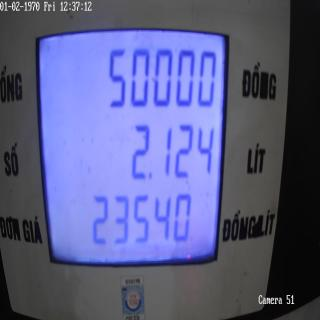screen: (32, 9, 232, 278)
